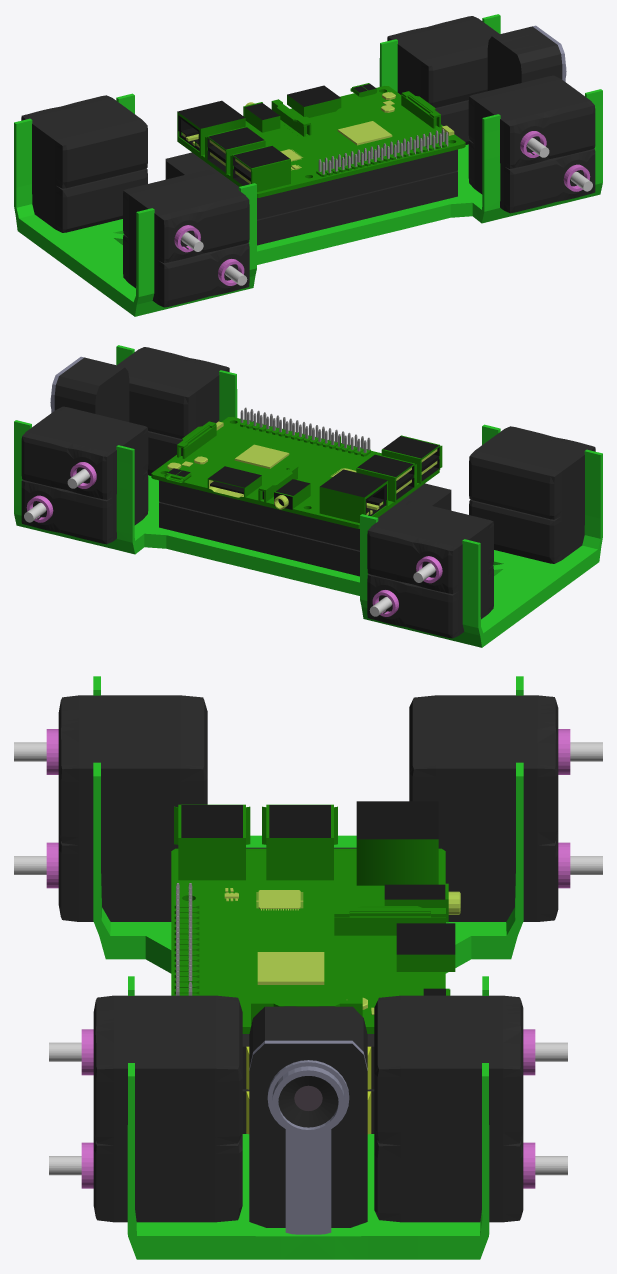
The model's file is felisbody.dae.
3 views of the same model, one above another, from view 1: azimuth 30°, elevation 25°; view 2: azimuth 150°, elevation 25°; view 3: azimuth 270°, elevation 25° (orthographic). The views are drawn at different scales.
Parts seen in each view (by area): view 1: RPi, Cage, BatteryPack, ServoMotor_005, ServoMotor_003, ServoMotor_007, ServoMotor_001, ServoMotor_002, ServoMotor_006, ServoMotor_004, WebCam, ServoMotor; view 2: RPi, Cage, BatteryPack, ServoMotor_007, ServoMotor_001, ServoMotor_005, ServoMotor_003, ServoMotor, ServoMotor_004, ServoMotor_006, WebCam, ServoMotor_002; view 3: RPi, WebCam, Cage, ServoMotor_003, ServoMotor_001, ServoMotor_005, ServoMotor_007, ServoMotor, ServoMotor_002, ServoMotor_006, ServoMotor_004, BatteryPack.
Boxes of the visible parts, left/top/right/bottom form: RPi: left=177, top=83, right=465, bottom=197; Cage: left=14, top=14, right=602, bottom=316; BatteryPack: left=165, top=149, right=457, bottom=245; ServoMotor_005: left=21, top=95, right=147, bottom=188; ServoMotor_003: left=468, top=75, right=595, bottom=168; ServoMotor_007: left=123, top=169, right=249, bottom=263; ServoMotor_001: left=387, top=16, right=499, bottom=107; ServoMotor_002: left=468, top=140, right=595, bottom=213; ServoMotor_006: left=123, top=234, right=249, bottom=307; ServoMotor_004: left=32, top=168, right=147, bottom=232; WebCam: left=487, top=25, right=566, bottom=90; ServoMotor: left=397, top=89, right=469, bottom=144; RPi: left=151, top=407, right=442, bottom=528; Cage: left=14, top=345, right=602, bottom=647; BatteryPack: left=159, top=480, right=451, bottom=576; ServoMotor_007: left=469, top=426, right=595, bottom=519; ServoMotor_001: left=21, top=406, right=148, bottom=499; ServoMotor_005: left=367, top=500, right=493, bottom=593; ServoMotor_003: left=117, top=347, right=229, bottom=438; ServoMotor: left=21, top=471, right=148, bottom=544; ServoMotor_004: left=367, top=565, right=493, bottom=638; ServoMotor_006: left=469, top=499, right=584, bottom=563; WebCam: left=50, top=356, right=147, bottom=471; ServoMotor_002: left=147, top=420, right=219, bottom=475; RPi: left=171, top=801, right=460, bottom=1033; WebCam: left=249, top=1006, right=367, bottom=1234; Cage: left=93, top=676, right=523, bottom=1259; ServoMotor_003: left=49, top=995, right=242, bottom=1145; ServoMotor_001: left=374, top=995, right=567, bottom=1145; ServoMotor_005: left=409, top=695, right=602, bottom=845; ServoMotor_007: left=14, top=695, right=207, bottom=845; ServoMotor: left=374, top=1130, right=567, bottom=1222; ServoMotor_002: left=49, top=1134, right=242, bottom=1222; ServoMotor_006: left=14, top=833, right=178, bottom=921; ServoMotor_004: left=438, top=829, right=602, bottom=921; BatteryPack: left=242, top=847, right=374, bottom=1134.
Bounding box in the file's own units: 0.2224 × 0.1368 × 0.0549.
